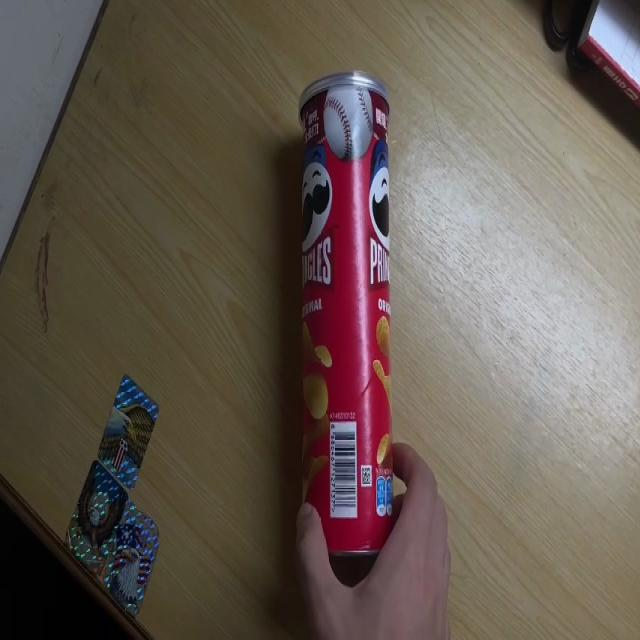Pringles: (296, 70, 400, 561)
